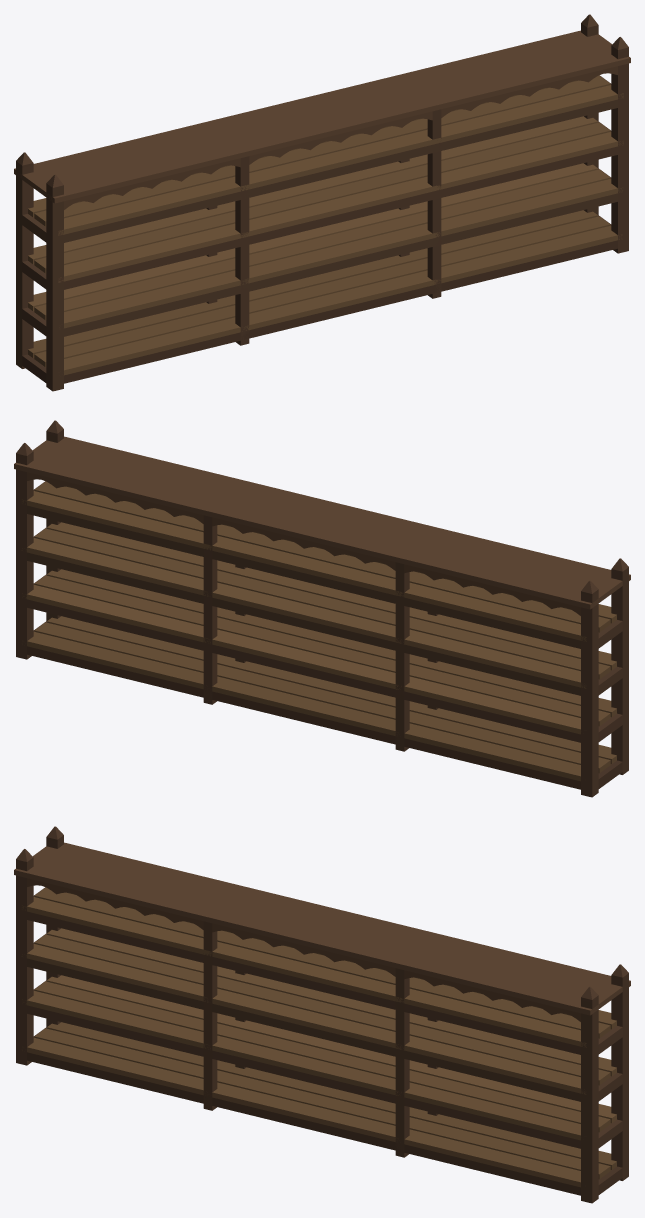
Rendered from footwear-rack.glb.
3 views of the same model, one above another, from view 1: azimuth 30°, elevation 25°; view 2: azimuth 150°, elevation 25°; view 3: azimuth 330°, elevation 25° (orthographic).
Parts seen in each view (by area): view 1: footwear-rack; view 2: footwear-rack; view 3: footwear-rack.
Part boxes in pixels (x1,y1,x2,y2): footwear-rack: [14, 14, 630, 391]; footwear-rack: [14, 420, 630, 797]; footwear-rack: [14, 826, 630, 1203].
Bounding box in the file's own units: 3.6 × 1.27 × 0.44.
